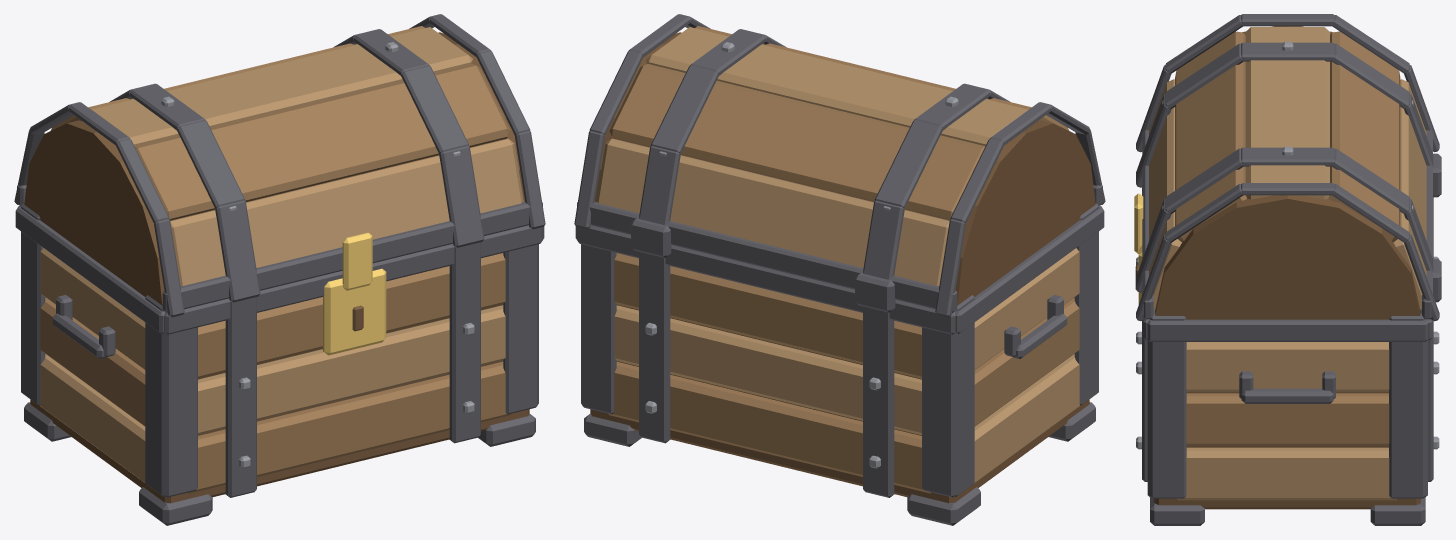
File: chest.glb
The picture shows the model from 3 angles, left to right: view 1: azimuth 30°, elevation 25°; view 2: azimuth 150°, elevation 25°; view 3: azimuth 270°, elevation 25°; orthographic projection. The views are drawn at different scales.
Parts seen in each view (by area): view 1: ChestBase, ChestLid; view 2: ChestBase, ChestLid; view 3: ChestLid, ChestBase.
Part boxes in pixels (bbox=[...]): ChestBase: bbox=[15, 203, 544, 525]; ChestLid: bbox=[14, 14, 545, 317]; ChestBase: bbox=[575, 203, 1104, 525]; ChestLid: bbox=[574, 14, 1105, 317]; ChestLid: bbox=[1134, 14, 1441, 321]; ChestBase: bbox=[1135, 187, 1439, 525].
Size of the model in its own units: 0.99 by 0.828 by 0.669.
